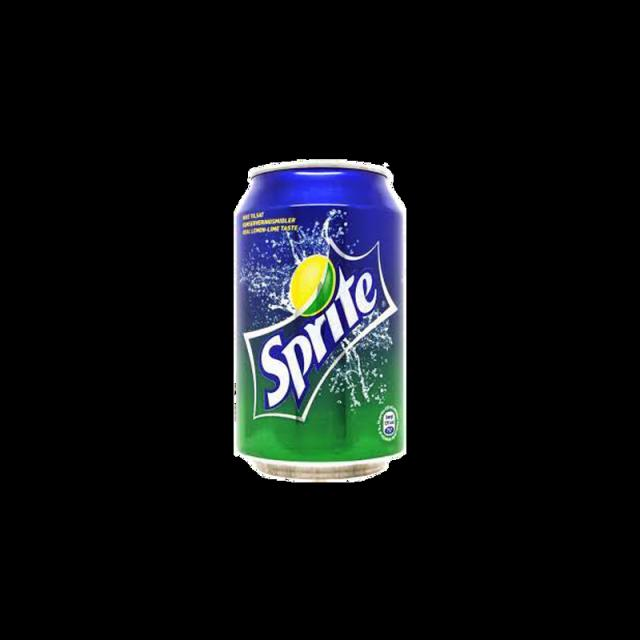sprite: (216, 177, 450, 493)
